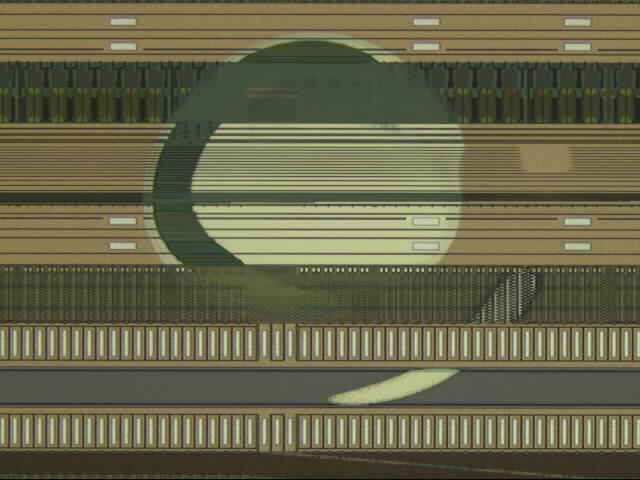BLOCK ETCH: (144, 31, 577, 417)
